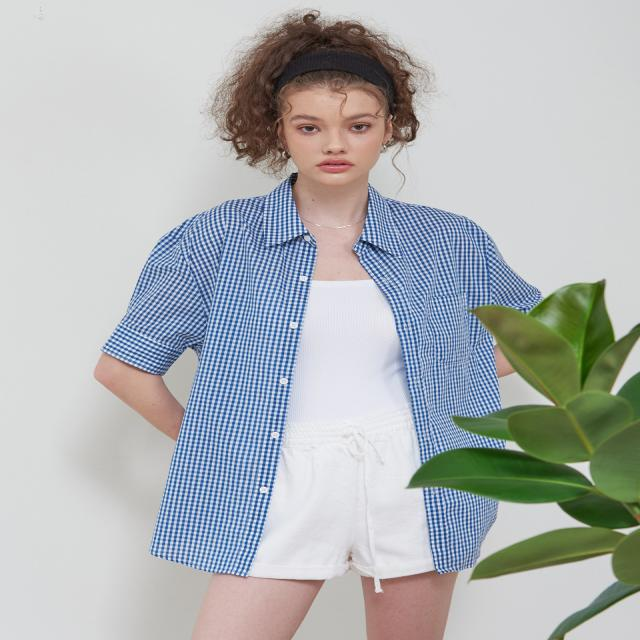dress: (112, 165, 527, 589)
